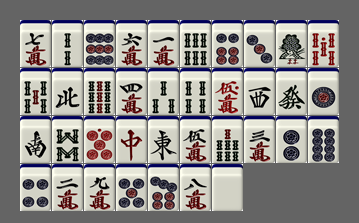0m: (212, 68, 243, 115)
0p: (84, 116, 115, 163)
0s: (308, 20, 339, 67)
1m: (148, 20, 179, 67)
1p: (308, 68, 339, 115)
1s: (276, 20, 307, 67)
1z: (148, 116, 179, 163)
2m: (52, 164, 83, 211)
2p: (276, 116, 307, 163)
2s: (52, 20, 83, 67)
2z: (20, 116, 51, 163)
3m: (244, 116, 275, 163)
3p: (244, 20, 275, 67)
3s: (148, 68, 179, 115)
3z: (244, 68, 275, 115)
4m: (116, 68, 147, 115)
4p: (20, 164, 51, 211)
4s: (180, 68, 211, 115)
4z: (52, 68, 83, 115)
5m: (180, 116, 211, 163)
5p: (116, 164, 147, 211)
5s: (20, 68, 51, 115)
5z: (212, 164, 243, 211)
6m: (116, 20, 147, 67)
6p: (212, 20, 243, 67)
6s: (180, 20, 211, 67)
6z: (276, 68, 307, 115)
7m: (20, 20, 51, 67)
7p: (148, 164, 179, 211)
7s: (212, 116, 243, 163)
7z: (116, 116, 147, 163)
8m: (180, 164, 211, 211)
8p: (308, 116, 339, 163)
8s: (52, 116, 83, 163)
9m: (84, 164, 115, 211)
9p: (84, 20, 115, 67)
9s: (84, 68, 115, 115)
